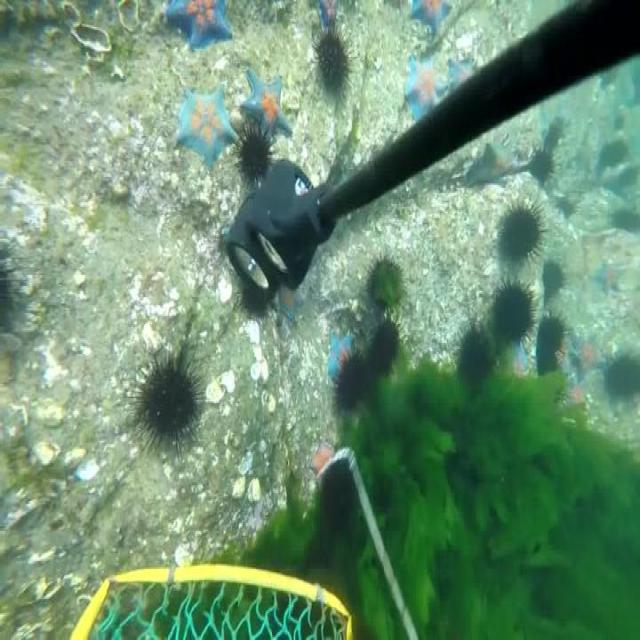echinus: (131, 356, 201, 462), (322, 466, 356, 537), (500, 207, 540, 262), (497, 280, 531, 343), (366, 313, 396, 384), (536, 321, 566, 389), (238, 123, 271, 182), (457, 324, 487, 384), (606, 351, 640, 403), (316, 33, 350, 84), (364, 261, 400, 303), (337, 359, 364, 406), (598, 134, 628, 176), (610, 204, 640, 237), (526, 148, 552, 184), (557, 193, 578, 226), (545, 262, 560, 297)
scallop: (206, 367, 239, 406), (66, 27, 115, 52), (115, 0, 142, 35), (245, 322, 267, 360), (57, 0, 84, 24), (248, 356, 268, 384), (216, 278, 233, 300), (262, 390, 276, 412), (250, 480, 260, 504)
starfish: (180, 85, 237, 166), (243, 66, 285, 141), (165, 0, 233, 46), (405, 63, 448, 123), (446, 54, 476, 102), (329, 332, 353, 392), (573, 332, 601, 381), (308, 436, 332, 487), (410, 0, 449, 28), (593, 259, 625, 291), (503, 341, 529, 378), (318, 0, 342, 24)
